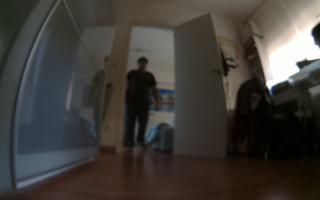person: (123, 54, 163, 154)
